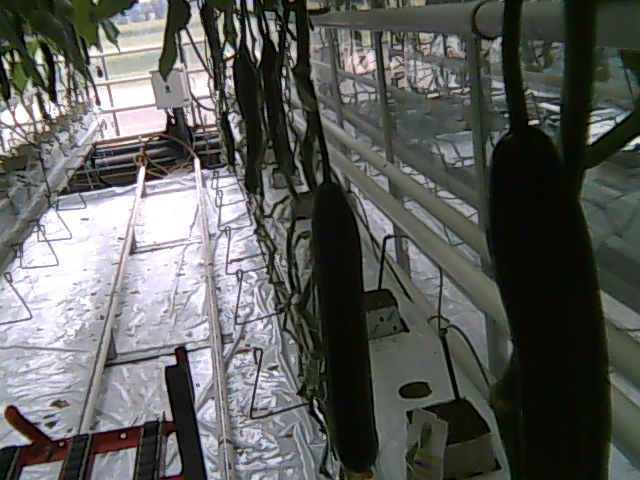concombre: (481, 121, 618, 480), (309, 171, 380, 480)
